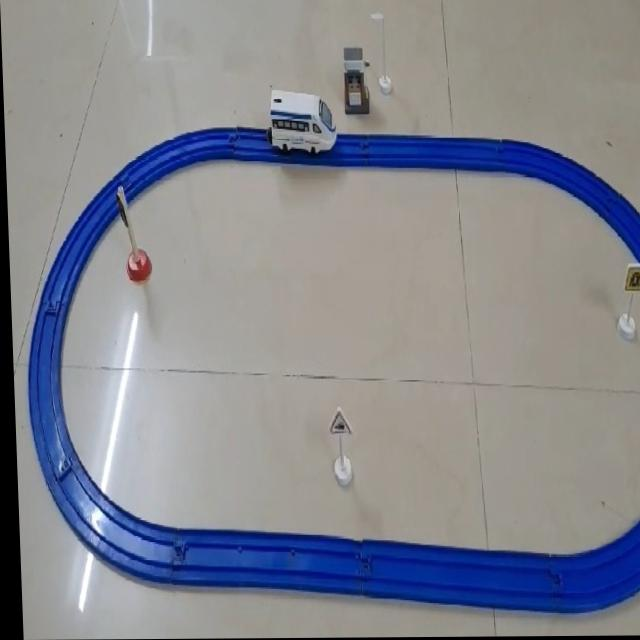bus: (265, 87, 338, 155)
